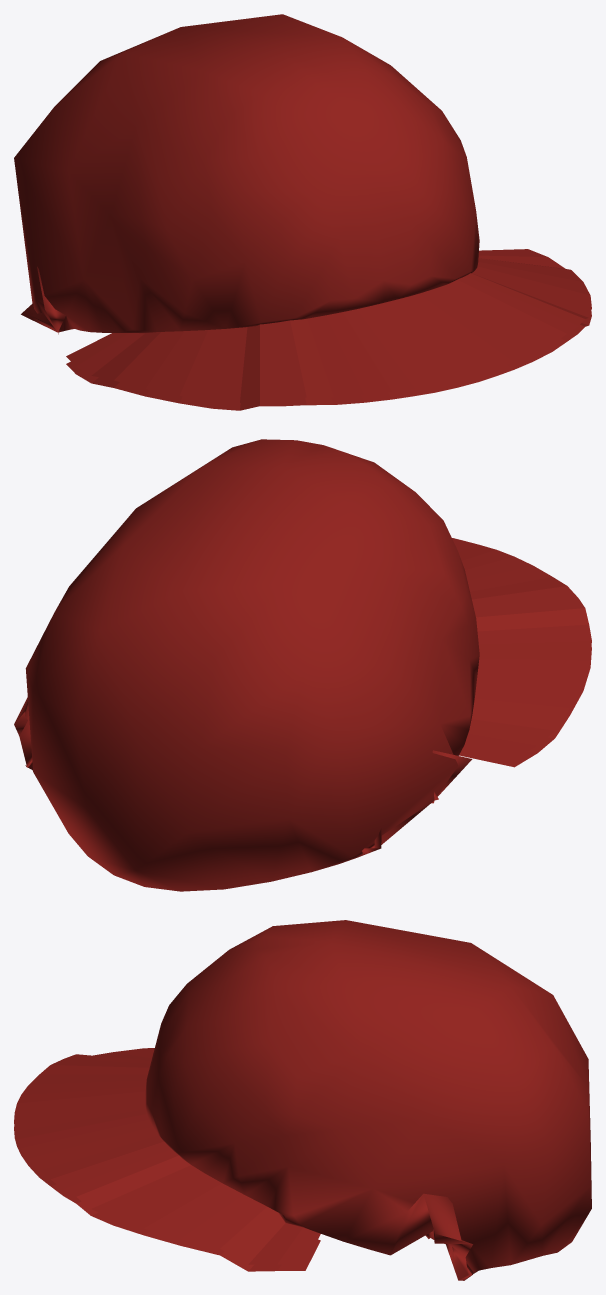
The model's file is accessory_cap_female.glb.
3 renders of one model, top to bottom at view 1: azimuth 30°, elevation 25°; view 2: azimuth 150°, elevation 25°; view 3: azimuth 270°, elevation 25°, orthographic. The views are drawn at different scales.
Parts seen in each view (by area): view 1: accessory_cap; view 2: accessory_cap; view 3: accessory_cap.
Part boxes in pixels (<box>): accessory_cap: <box>14,14,591,410</box>; accessory_cap: <box>14,439,591,891</box>; accessory_cap: <box>14,920,591,1280</box>.
Size of the model in its own units: 0.2576 by 0.1665 by 0.3047.
